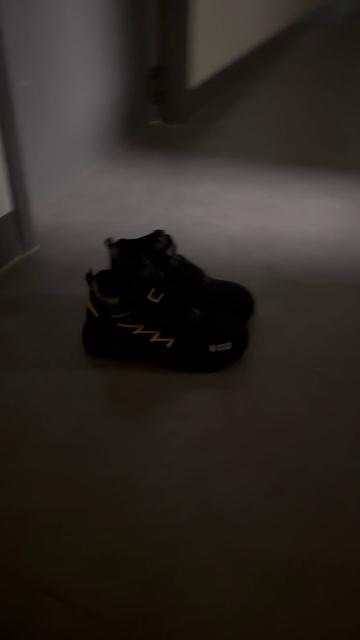shoe_worn: (83, 268, 252, 370), (101, 231, 256, 317)
